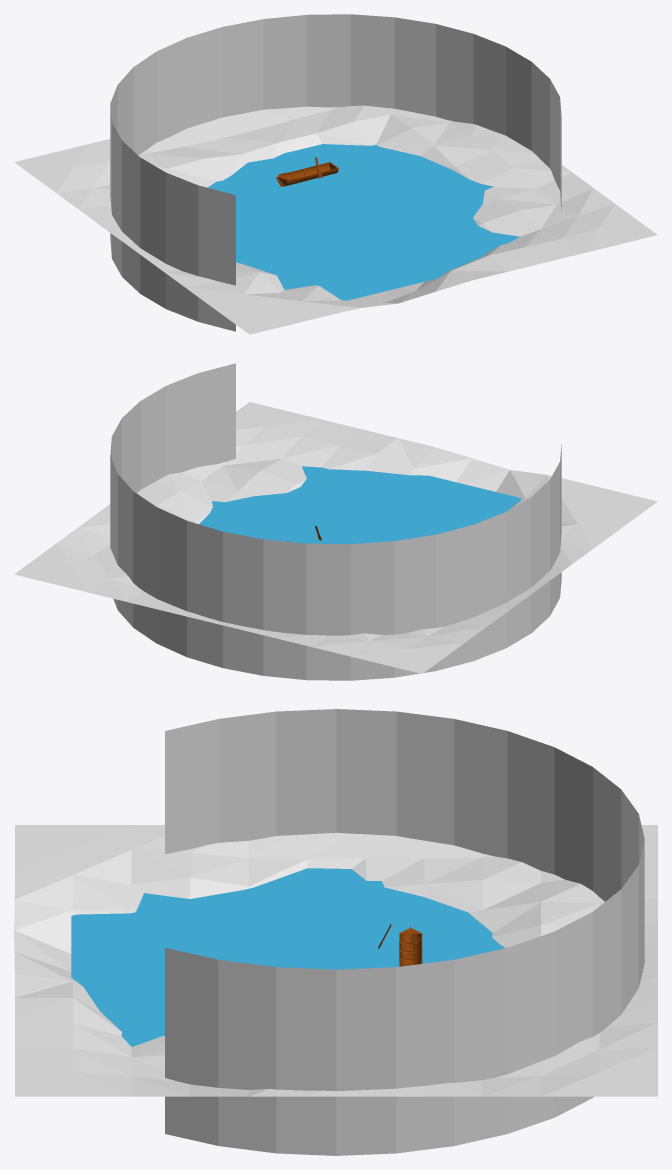
Rendered from uploads_files_4176530_boat+in+lake.fbx.
The picture shows the model from 3 angles, top to bottom: view 1: azimuth 30°, elevation 25°; view 2: azimuth 150°, elevation 25°; view 3: azimuth 270°, elevation 25°; orthographic projection. The views are drawn at different scales.
Visible parts, largest first — view 1: Cylinder.001, sand, water, Cylinder; view 2: Cylinder.001, sand, water; view 3: Cylinder.001, sand, water, Cylinder.
Part boxes in pixels (x1,y1,x2,y2): Cylinder.001: (110, 14, 561, 331); sand: (14, 105, 657, 334); water: (207, 144, 519, 300); Cylinder: (276, 162, 338, 186); Cylinder.001: (110, 363, 561, 680); sand: (14, 402, 657, 673); water: (199, 466, 520, 544); Cylinder.001: (165, 709, 644, 1155); sand: (14, 825, 657, 1096); water: (71, 868, 504, 1046); Cylinder: (399, 925, 422, 966).
Bounding box in the file's own units: 3780 × 1402 × 3785.
